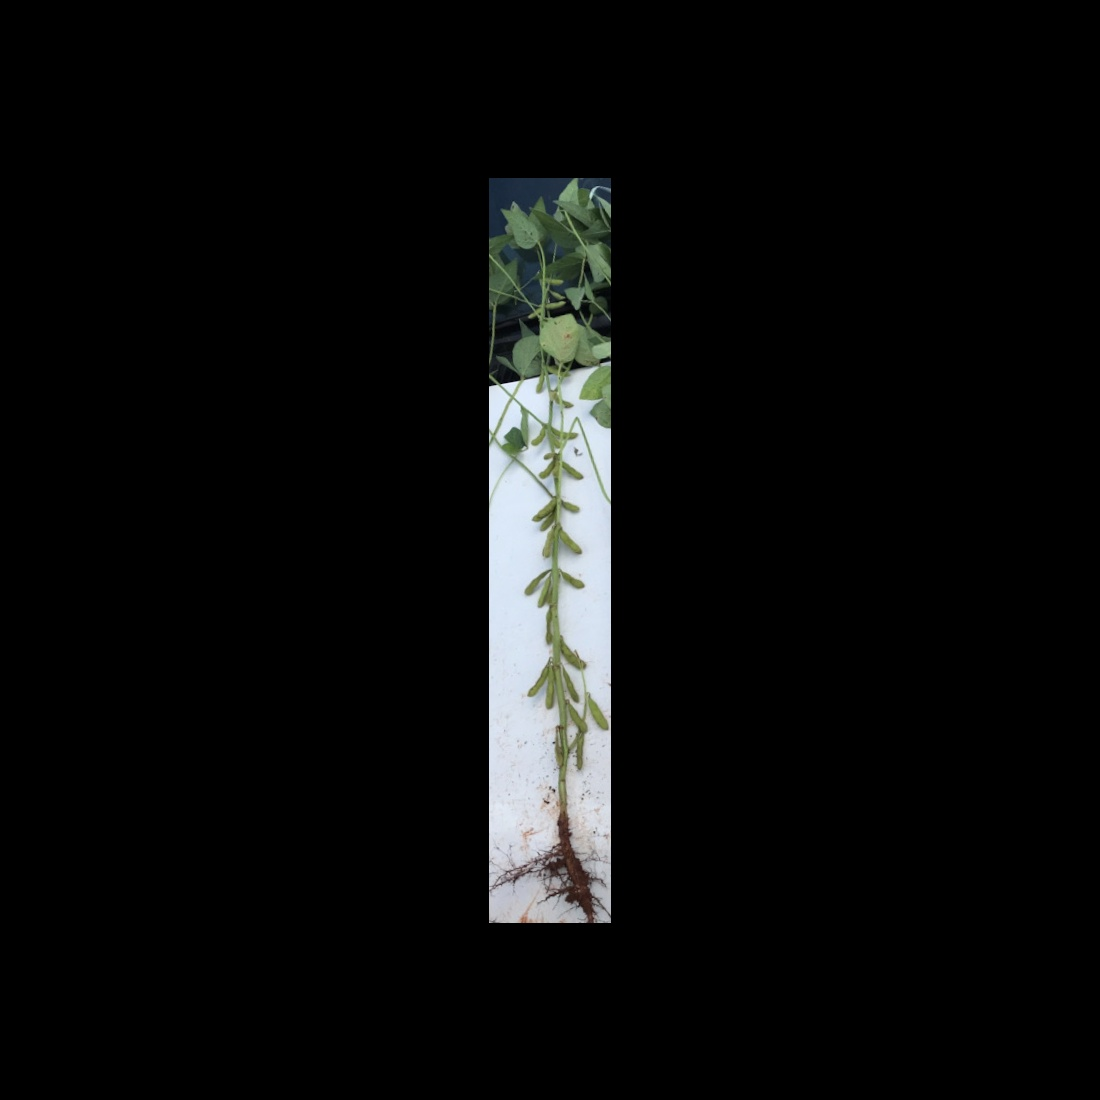pod: (582, 695, 608, 732), (558, 637, 587, 670), (556, 526, 584, 558), (520, 568, 553, 595), (559, 663, 579, 705), (528, 661, 550, 699), (565, 700, 587, 733), (541, 665, 556, 709), (558, 568, 586, 589), (560, 459, 586, 482), (574, 733, 587, 774), (537, 496, 560, 518), (537, 458, 558, 480), (550, 425, 579, 439), (542, 527, 554, 560), (556, 498, 581, 513), (538, 579, 550, 608), (532, 426, 547, 447)
soy: (492, 182, 611, 919)
